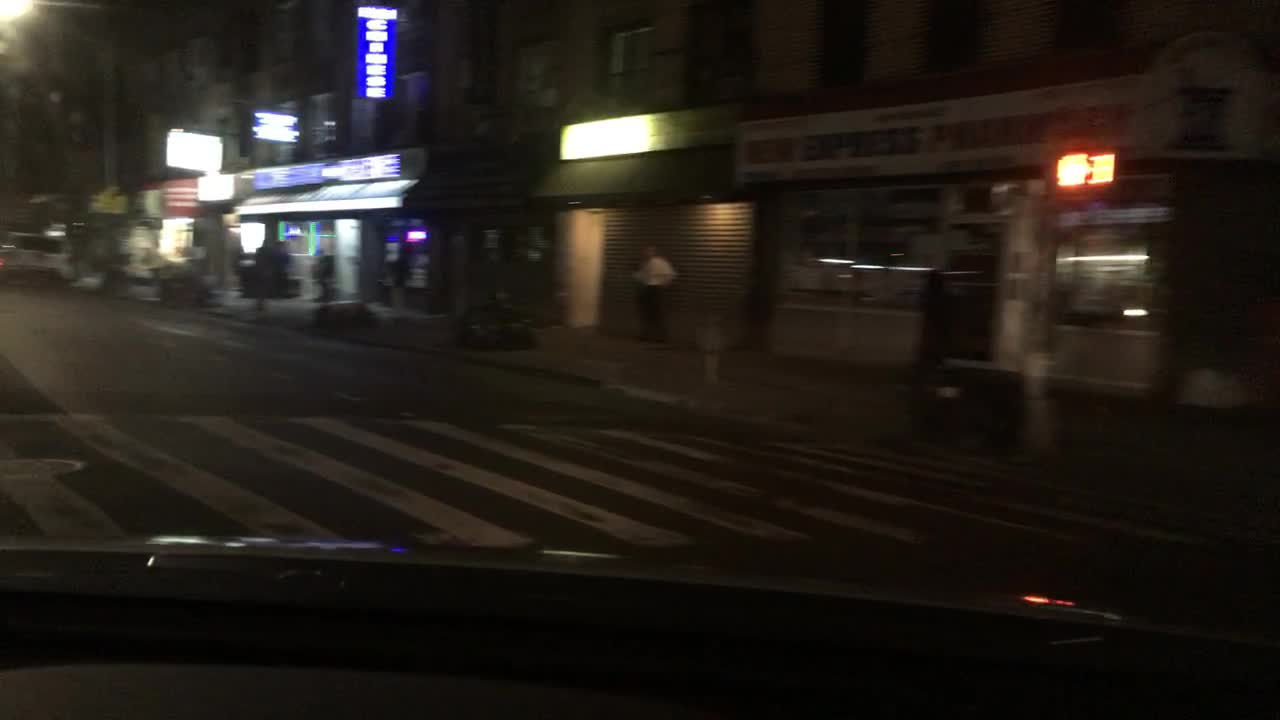car: (0, 230, 49, 284), (43, 233, 76, 279)
person: (625, 239, 679, 346), (309, 248, 336, 304), (254, 238, 275, 306), (271, 239, 291, 298)
traffic light: (1052, 150, 1090, 190), (1090, 151, 1116, 185)
